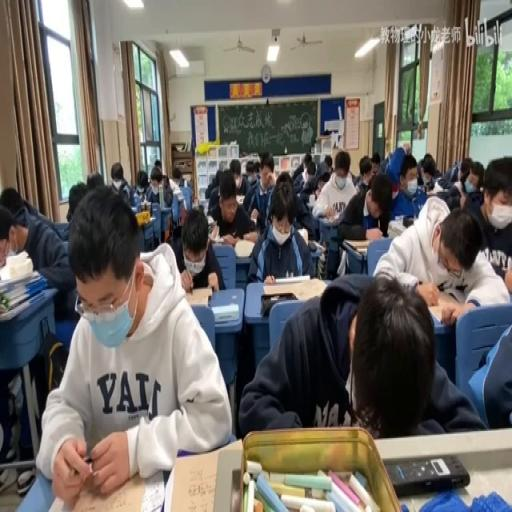calculator: (49, 458, 160, 509), (164, 448, 231, 512), (423, 284, 466, 323), (0, 289, 45, 320), (0, 266, 41, 294), (210, 300, 238, 322), (184, 286, 213, 306), (233, 238, 254, 256), (387, 218, 406, 236), (308, 208, 323, 230), (414, 186, 426, 212), (274, 273, 308, 282), (321, 208, 339, 224), (307, 239, 326, 252), (337, 250, 346, 276), (134, 215, 154, 226), (425, 182, 443, 193), (296, 226, 307, 243), (208, 224, 219, 240), (174, 188, 184, 202), (235, 195, 245, 205), (206, 214, 216, 224), (308, 194, 314, 208)
paper: (239, 270, 485, 435), (1, 185, 75, 473), (374, 195, 508, 311), (246, 181, 314, 283), (335, 169, 390, 263), (467, 312, 512, 426), (204, 168, 256, 242), (386, 151, 421, 222), (446, 155, 482, 211), (158, 166, 183, 236), (66, 180, 88, 222), (110, 160, 132, 200), (416, 154, 441, 188), (354, 151, 376, 189), (0, 185, 25, 216), (134, 168, 150, 203), (291, 154, 309, 182), (274, 170, 293, 194), (334, 149, 350, 175), (368, 188, 384, 213), (174, 164, 190, 186), (259, 158, 274, 180), (86, 172, 104, 189), (229, 160, 240, 178), (317, 179, 328, 196), (150, 174, 162, 189), (245, 168, 256, 182), (324, 155, 333, 171), (306, 168, 315, 183), (402, 141, 410, 155), (152, 158, 162, 168), (160, 176, 167, 188)
person: (386, 454, 470, 496), (259, 293, 298, 314), (402, 214, 414, 224)
